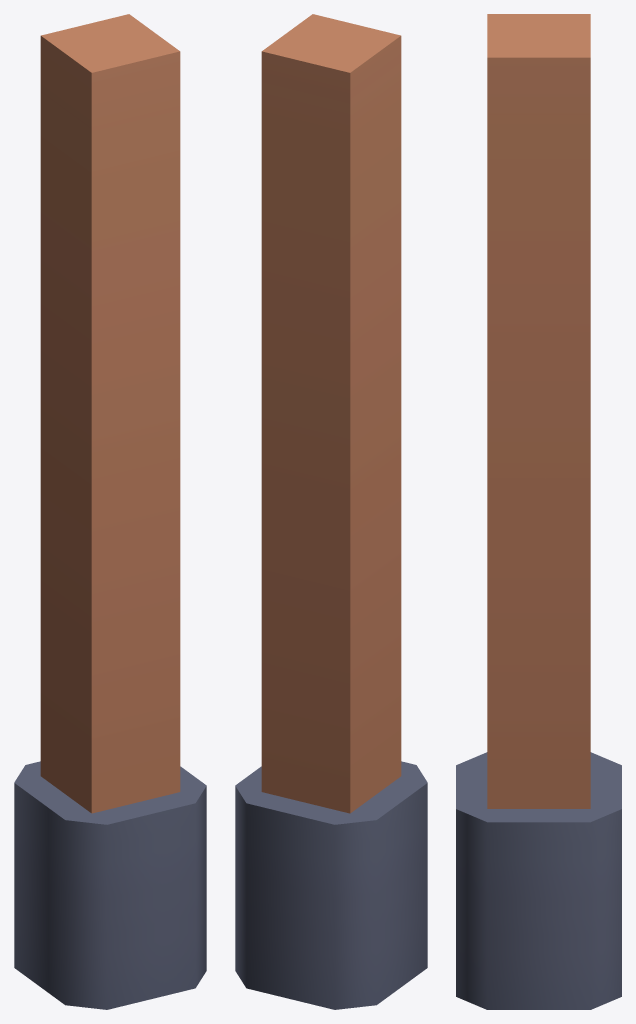
The model's file is ot-pillar-wood.glb.
3 renders of one model, left to right at view 1: azimuth 30°, elevation 25°; view 2: azimuth 150°, elevation 25°; view 3: azimuth 270°, elevation 25°, orthographic.
Parts seen in each view (by area): view 1: pillar-wood; view 2: pillar-wood; view 3: pillar-wood.
Boxes of the visible parts, x1,y1,x2,y2 form: pillar-wood: (14,14,206,1009); pillar-wood: (235,14,427,1009); pillar-wood: (456,14,621,1009).
Bounding box in the file's own units: 0.16 × 1 × 0.16.
1 material, 1 textured.
